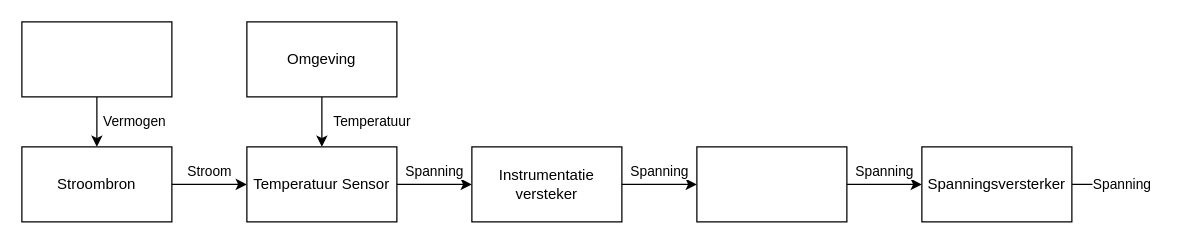
Some shapes in this 1179 by 244 pixel diagram are drawn without their labels. The box of each missing label's shape, as (x1, y1, x2, y2) in pixels:
Signaal bewerking: (696, 146, 847, 222)
Voeding: (21, 21, 172, 97)
